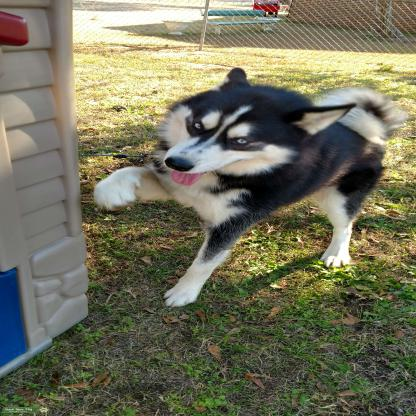husky: (91, 65, 393, 308)
